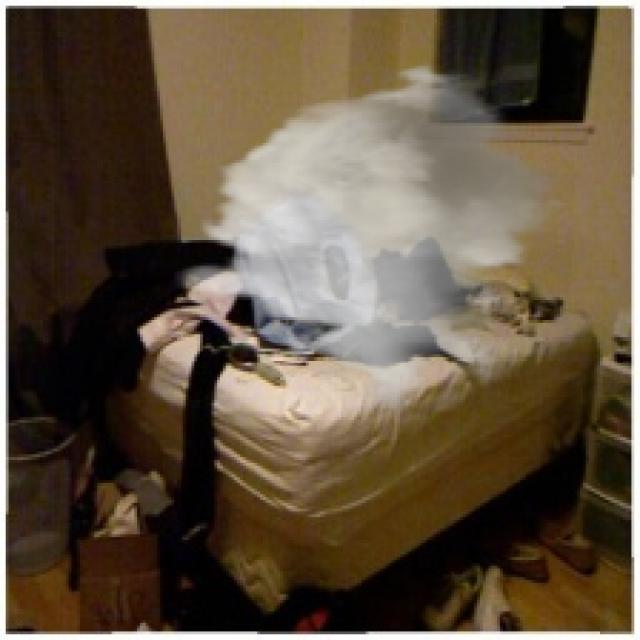smoke: (175, 60, 574, 411)
